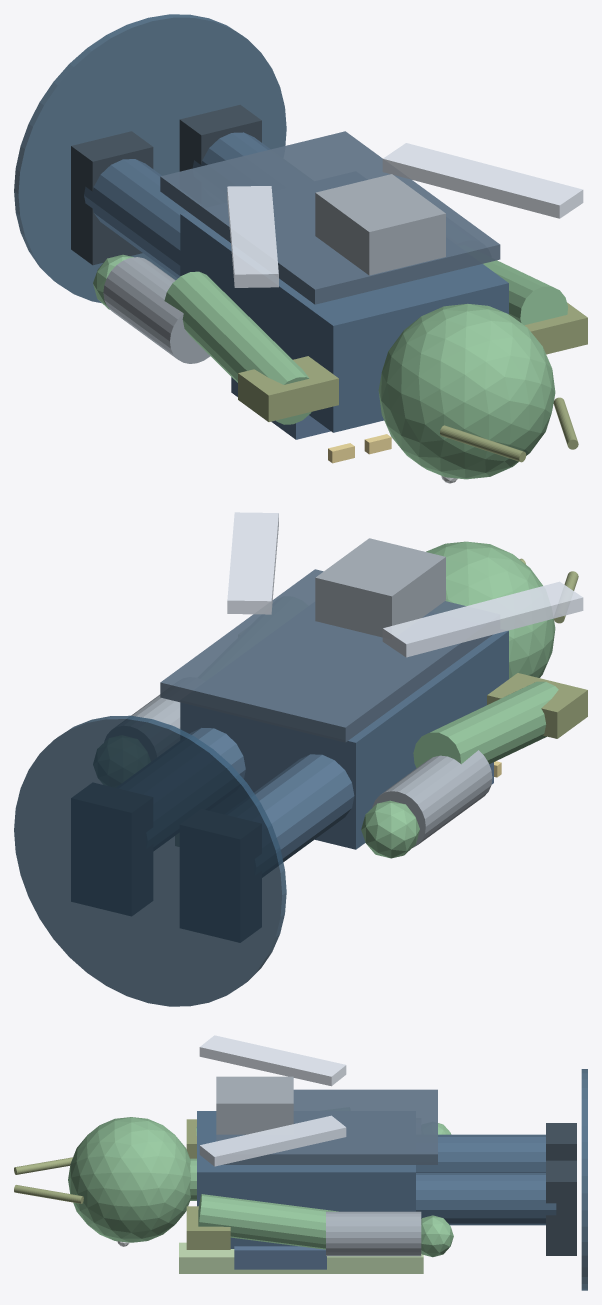
The model's file is SW_NPC_029_dalen_stormvale.glb.
The picture shows the model from 3 angles, top to bottom: view 1: azimuth 30°, elevation 25°; view 2: azimuth 150°, elevation 25°; view 3: azimuth 270°, elevation 25°; orthographic projection. The views are drawn at different scales.
Visible parts, largest first — view 1: round_base_plate, head, storm_cloak, torso_uniform, wingpack_core, left_upper_arm, left_leg, right_wing_rig, left_forearm_gauntlet, left_boot, left_wing_rig, bark_left_shoulder (+8 smaller); view 2: round_base_plate, storm_cloak, torso_uniform, wingpack_core, head, left_wing_rig, left_leg, left_upper_arm, left_forearm_gauntlet, right_wing_rig, left_hand, bark_left_shoulder (+2 smaller); view 3: head, storm_cloak, torso_uniform, right_leg, right_upper_arm, right_forearm_gauntlet, left_leg, wingpack_core, rank_sash, right_wing_rig, left_wing_rig, right_boot (+8 smaller).
Boxes of the visible parts, x1,y1,x2,y2 form: round_base_plate: [14, 14, 286, 303]; head: [378, 303, 555, 479]; storm_cloak: [160, 131, 500, 304]; torso_uniform: [180, 212, 508, 432]; wingpack_core: [315, 174, 445, 275]; left_upper_arm: [164, 271, 311, 424]; left_leg: [84, 159, 187, 278]; right_wing_rig: [382, 143, 583, 218]; left_forearm_gauntlet: [103, 257, 210, 363]; left_boot: [71, 131, 153, 265]; left_wing_rig: [227, 186, 278, 287]; bark_left_shoulder: [238, 356, 338, 421]; round_base_plate: [14, 715, 286, 1006]; storm_cloak: [160, 569, 492, 742]; torso_uniform: [180, 630, 508, 849]; wingpack_core: [315, 538, 445, 637]; head: [426, 541, 555, 678]; left_wing_rig: [382, 581, 583, 657]; left_leg: [254, 754, 354, 861]; left_upper_arm: [413, 681, 558, 767]; left_forearm_gauntlet: [372, 750, 492, 847]; right_wing_rig: [227, 512, 278, 614]; left_hand: [361, 800, 419, 858]; bark_left_shoulder: [487, 673, 587, 738]; head: [68, 1117, 190, 1242]; storm_cloak: [216, 1089, 437, 1164]; torso_uniform: [197, 1111, 415, 1248]; right_leg: [416, 1172, 556, 1225]; right_upper_arm: [198, 1194, 338, 1249]; right_forearm_gauntlet: [326, 1211, 421, 1256]; left_leg: [416, 1134, 545, 1172]; wingpack_core: [216, 1076, 293, 1134]; rank_sash: [179, 1242, 423, 1273]; right_wing_rig: [199, 1115, 346, 1166]; left_wing_rig: [199, 1035, 346, 1086]; right_boot: [546, 1160, 576, 1255].
Bounding box in the file's own units: 1.36 × 1.05 × 2.72.
